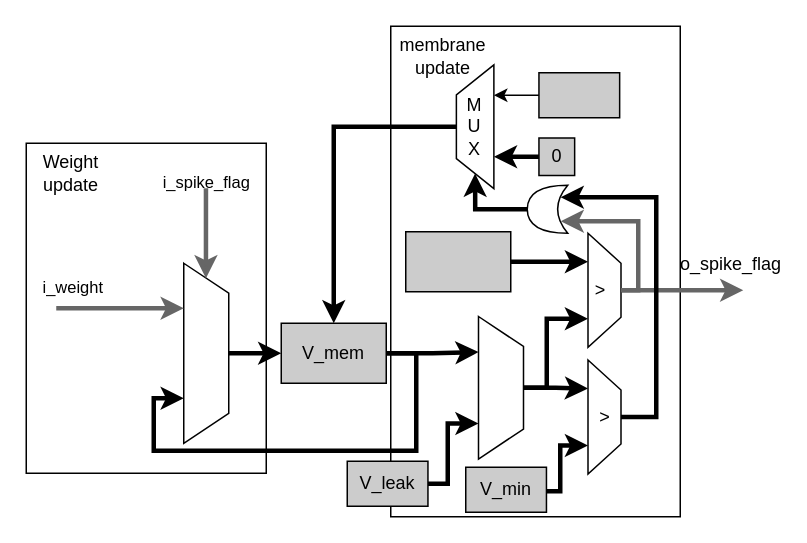
Some shapes in this 807 by 543 pixel diagram are drawn without their labels. Each missing label, with the box of its shape:
A D D: (182, 262, 229, 443)
S U B: (477, 315, 524, 459)
V_rest: (537, 71, 620, 118)
V_threshold: (404, 230, 511, 292)
